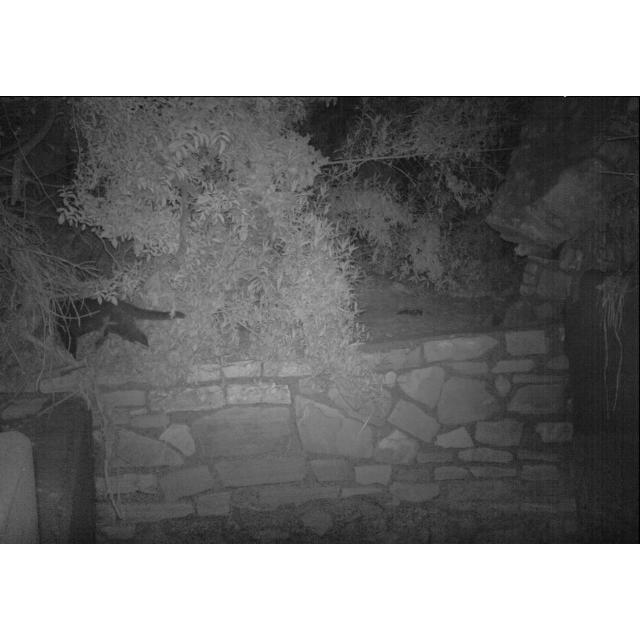animals: (32, 288, 190, 364)
